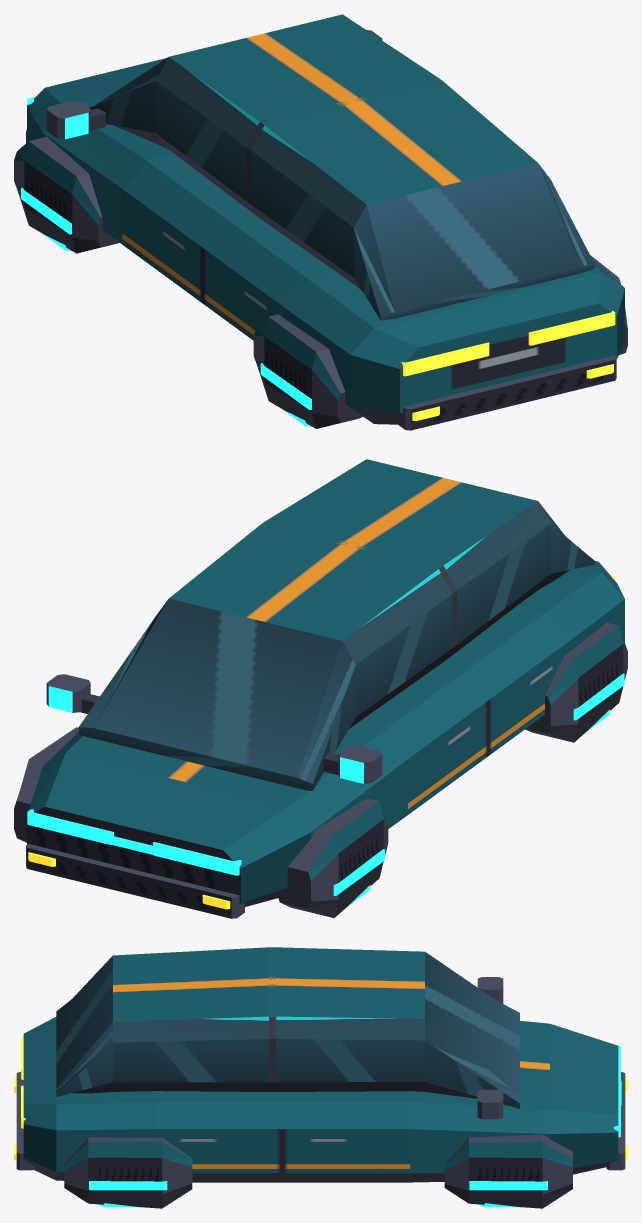
Rendered from lagoon_fastback.glb.
3 views of the same model, one above another, from view 1: azimuth 30°, elevation 25°; view 2: azimuth 150°, elevation 25°; view 3: azimuth 270°, elevation 25° (orthographic). The views are drawn at different scales.
Parts seen in each view (by area): view 1: cab_glazing, hull, rear_pod_l, front_pod_l, bumper, mirror, rear_lens.001, rear_lens, induction_strip, induction_strip.001; view 2: cab_glazing, hull, front_pod_l, rear_pod_l, bumper.001, front_pod_r, mirror, mirror.001, headlamp, headlamp.001, induction_strip, induction_strip.001; view 3: cab_glazing, hull, front_pod_r, rear_pod_r, mirror.001, induction_strip.002, induction_strip.003, bumper, bumper.001, mirror.
Part boxes in pixels (x1,y1,x2,y2): cab_glazing: (89, 14, 594, 320); hull: (27, 58, 624, 424); rear_pod_l: (253, 314, 362, 428); front_pod_l: (14, 136, 119, 253); bumper: (397, 355, 616, 430); mirror: (46, 100, 90, 139); rear_lens.001: (528, 310, 615, 345); rear_lens: (401, 342, 489, 376); induction_strip: (260, 363, 311, 409); induction_strip.001: (21, 187, 71, 234); cab_glazing: (78, 459, 594, 790); hull: (27, 561, 624, 906); front_pod_l: (277, 798, 388, 917); rear_pod_l: (525, 622, 627, 742); bumper.001: (26, 844, 244, 918); front_pod_r: (14, 727, 78, 842); mirror: (338, 745, 382, 783); mirror.001: (46, 674, 90, 712); headlamp: (153, 842, 241, 875); headlamp.001: (27, 809, 113, 844); induction_strip: (573, 673, 624, 720); induction_strip.001: (333, 849, 384, 895); cab_glazing: (56, 947, 519, 1108); hull: (23, 1017, 618, 1182); front_pod_r: (444, 1134, 572, 1208); rear_pod_r: (64, 1137, 192, 1208); mirror.001: (477, 1089, 503, 1119); induction_strip.002: (89, 1181, 167, 1190); induction_strip.003: (469, 1181, 547, 1190); bumper: (16, 1072, 34, 1170); bumper.001: (606, 1072, 625, 1170); mirror: (477, 977, 503, 1003).
Bounding box in the file's own units: 2.09 × 1.3 × 4.32.
Materials: 3 (3 with a texture image).
